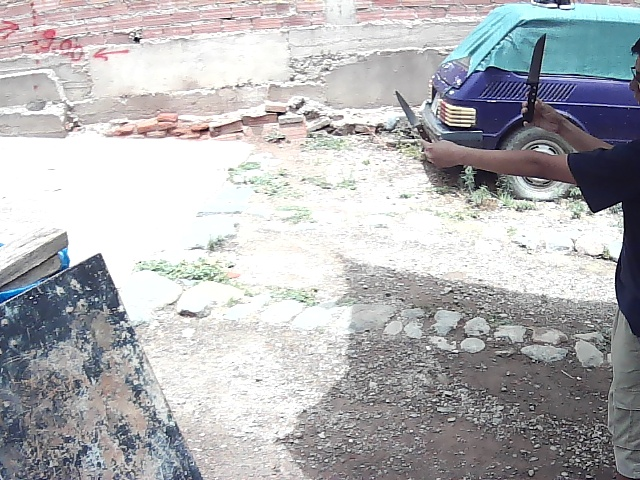cuchillo: (518, 28, 553, 103), (391, 84, 428, 139)
